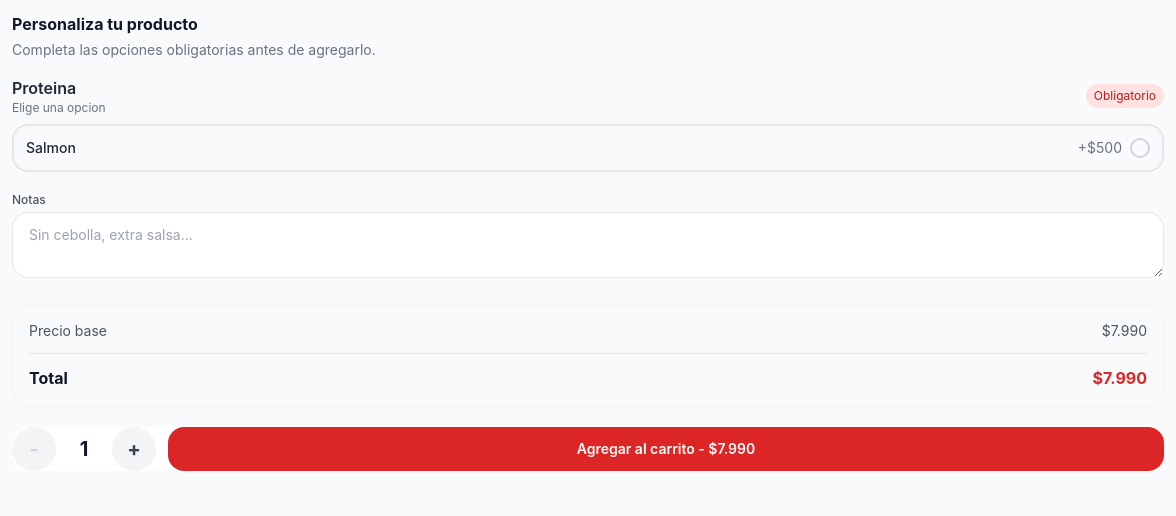
ProductConfigurator › prevents adding an invalid required configuration
What coordinates should you click on to do the following:
click the button "Agregar al carrito - $7.990"
I would click on:
 (666, 449)
Its box is [168,427,1164,471].
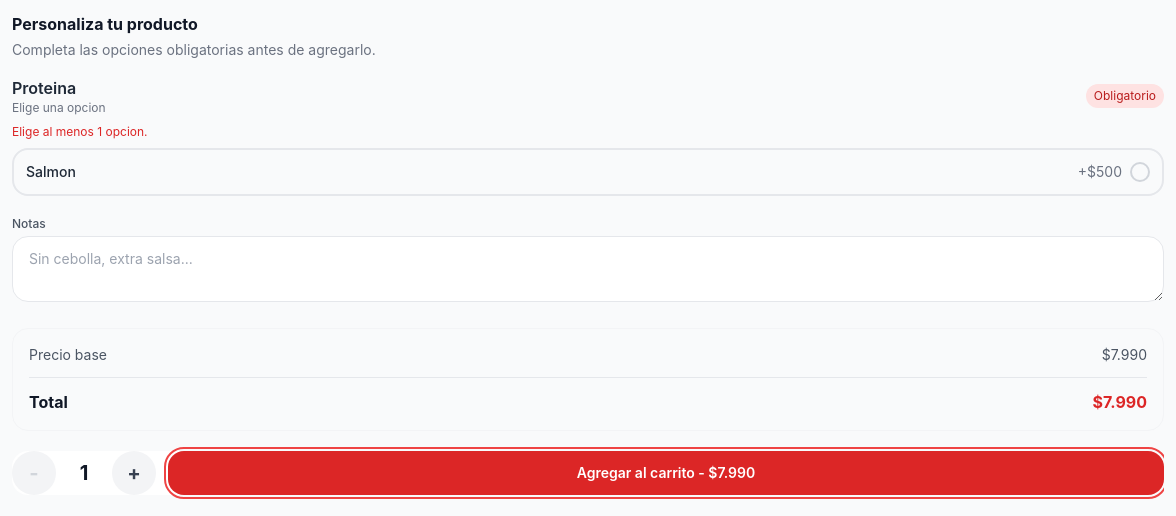
Check: the text "Elige al menos 1 opcion." is shown, box [12,124,148,139]
